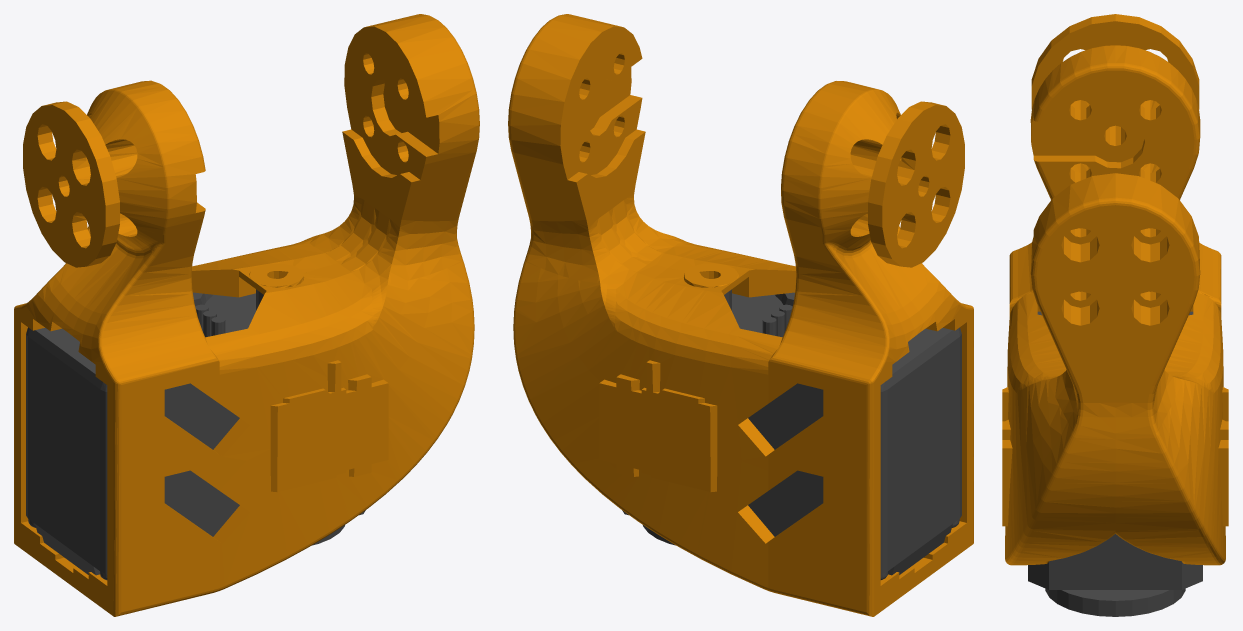
The model's file is Wrist_Pitch_Roll.glb.
The picture shows the model from 3 angles, left to right: view 1: azimuth 30°, elevation 25°; view 2: azimuth 150°, elevation 25°; view 3: azimuth 270°, elevation 25°; orthographic projection.
Visible parts, largest first — view 1: Wrist_Pitch_Roll_0, Wrist_Pitch_Roll_1; view 2: Wrist_Pitch_Roll_0, Wrist_Pitch_Roll_1; view 3: Wrist_Pitch_Roll_0, Wrist_Pitch_Roll_1.
Boxes of the visible parts, x1,y1,x2,y2 form: Wrist_Pitch_Roll_0: (14, 14, 479, 616); Wrist_Pitch_Roll_1: (26, 289, 365, 580); Wrist_Pitch_Roll_0: (508, 14, 973, 616); Wrist_Pitch_Roll_1: (622, 289, 961, 579); Wrist_Pitch_Roll_0: (1002, 14, 1228, 565); Wrist_Pitch_Roll_1: (1028, 311, 1202, 616).
Bounding box in the file's own units: 0.0633 × 0.0746 × 0.032.
